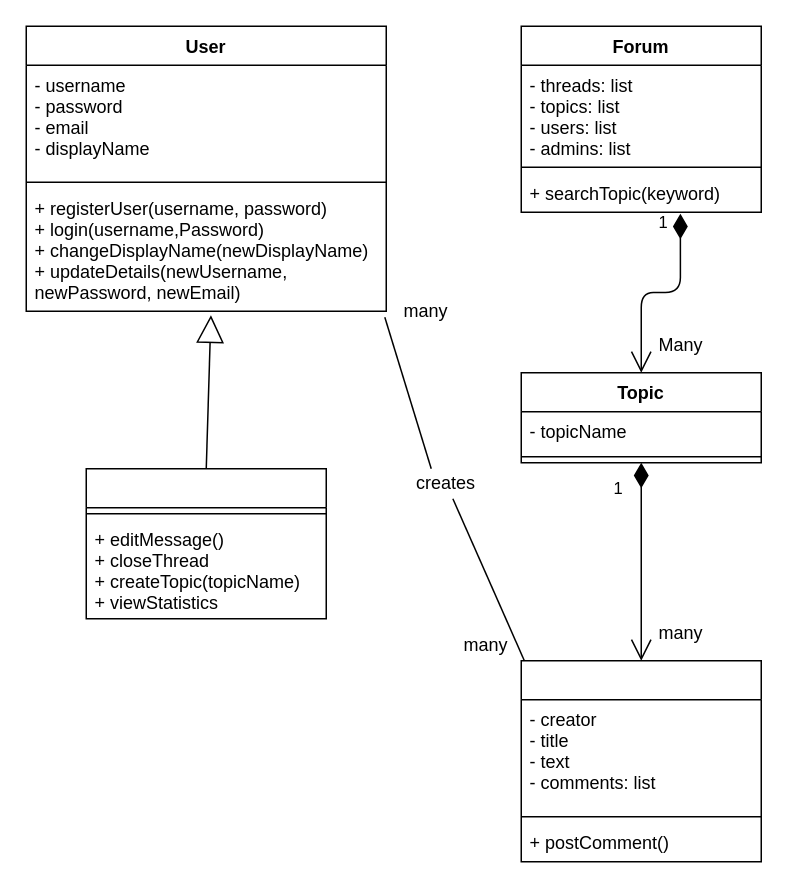
Some shapes in this 788 by 893 pixel diagram are drawn without their labels. The shapes that lost their labels are listed below. From the top down, each one's box as (x1, y1, x2, y2) in pixels, then its label:
(85, 467, 326, 619): Administrator
(520, 659, 761, 862): Thread
